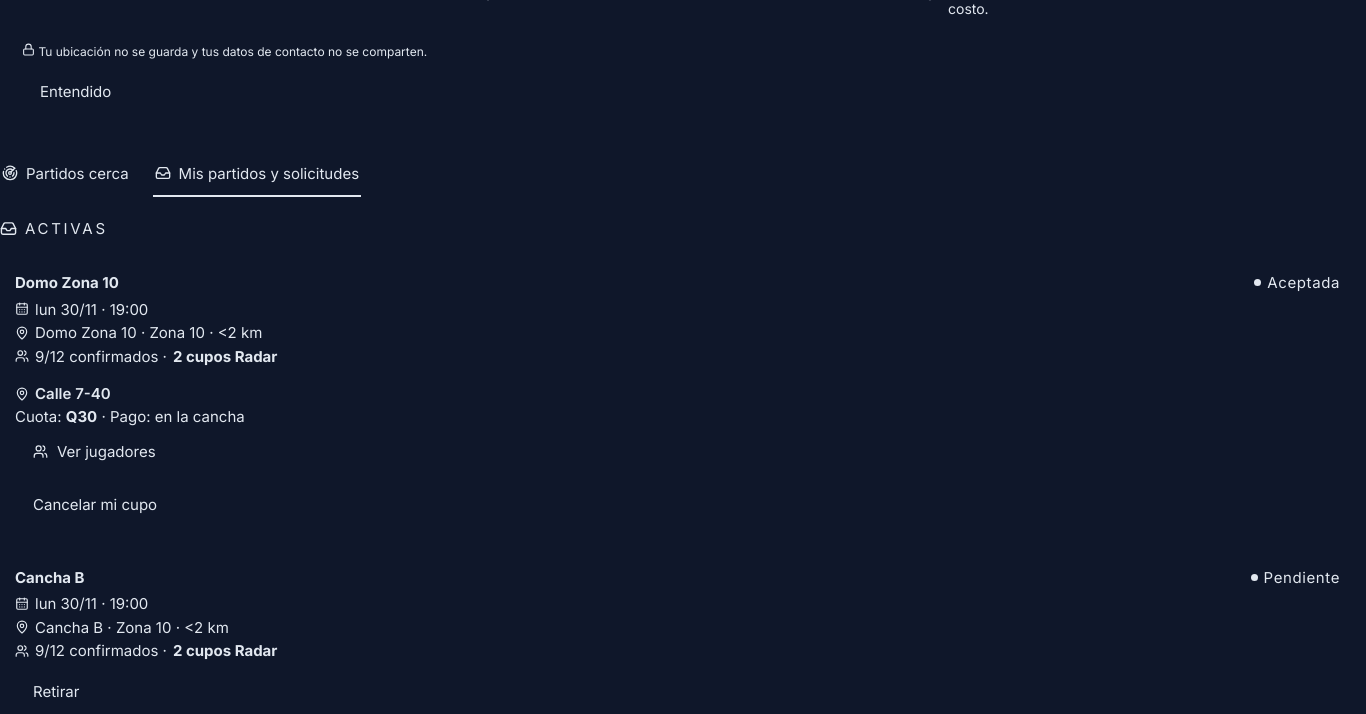
Radar page › shows the address only for approved requests and confirms a late cancel
Later steps or results of the test are not shown.
(page scrolled)
Expected: the text "Calle 7-40" is shown once, [15, 384, 111, 403]
Click the button "Cancelar mi cupo" at (95, 505), box [15, 483, 175, 527]
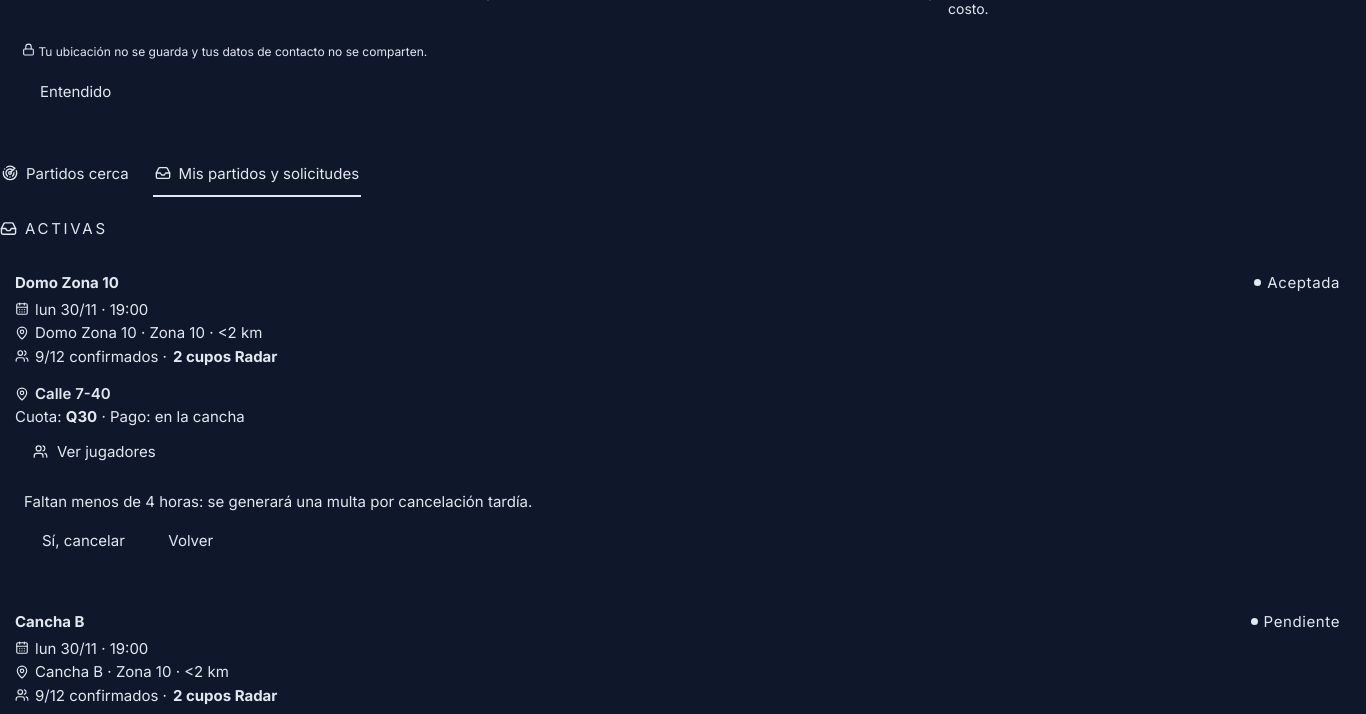
Expected: the text "menos de 4 horas: se generará una multa" is shown, [24, 492, 532, 511]
